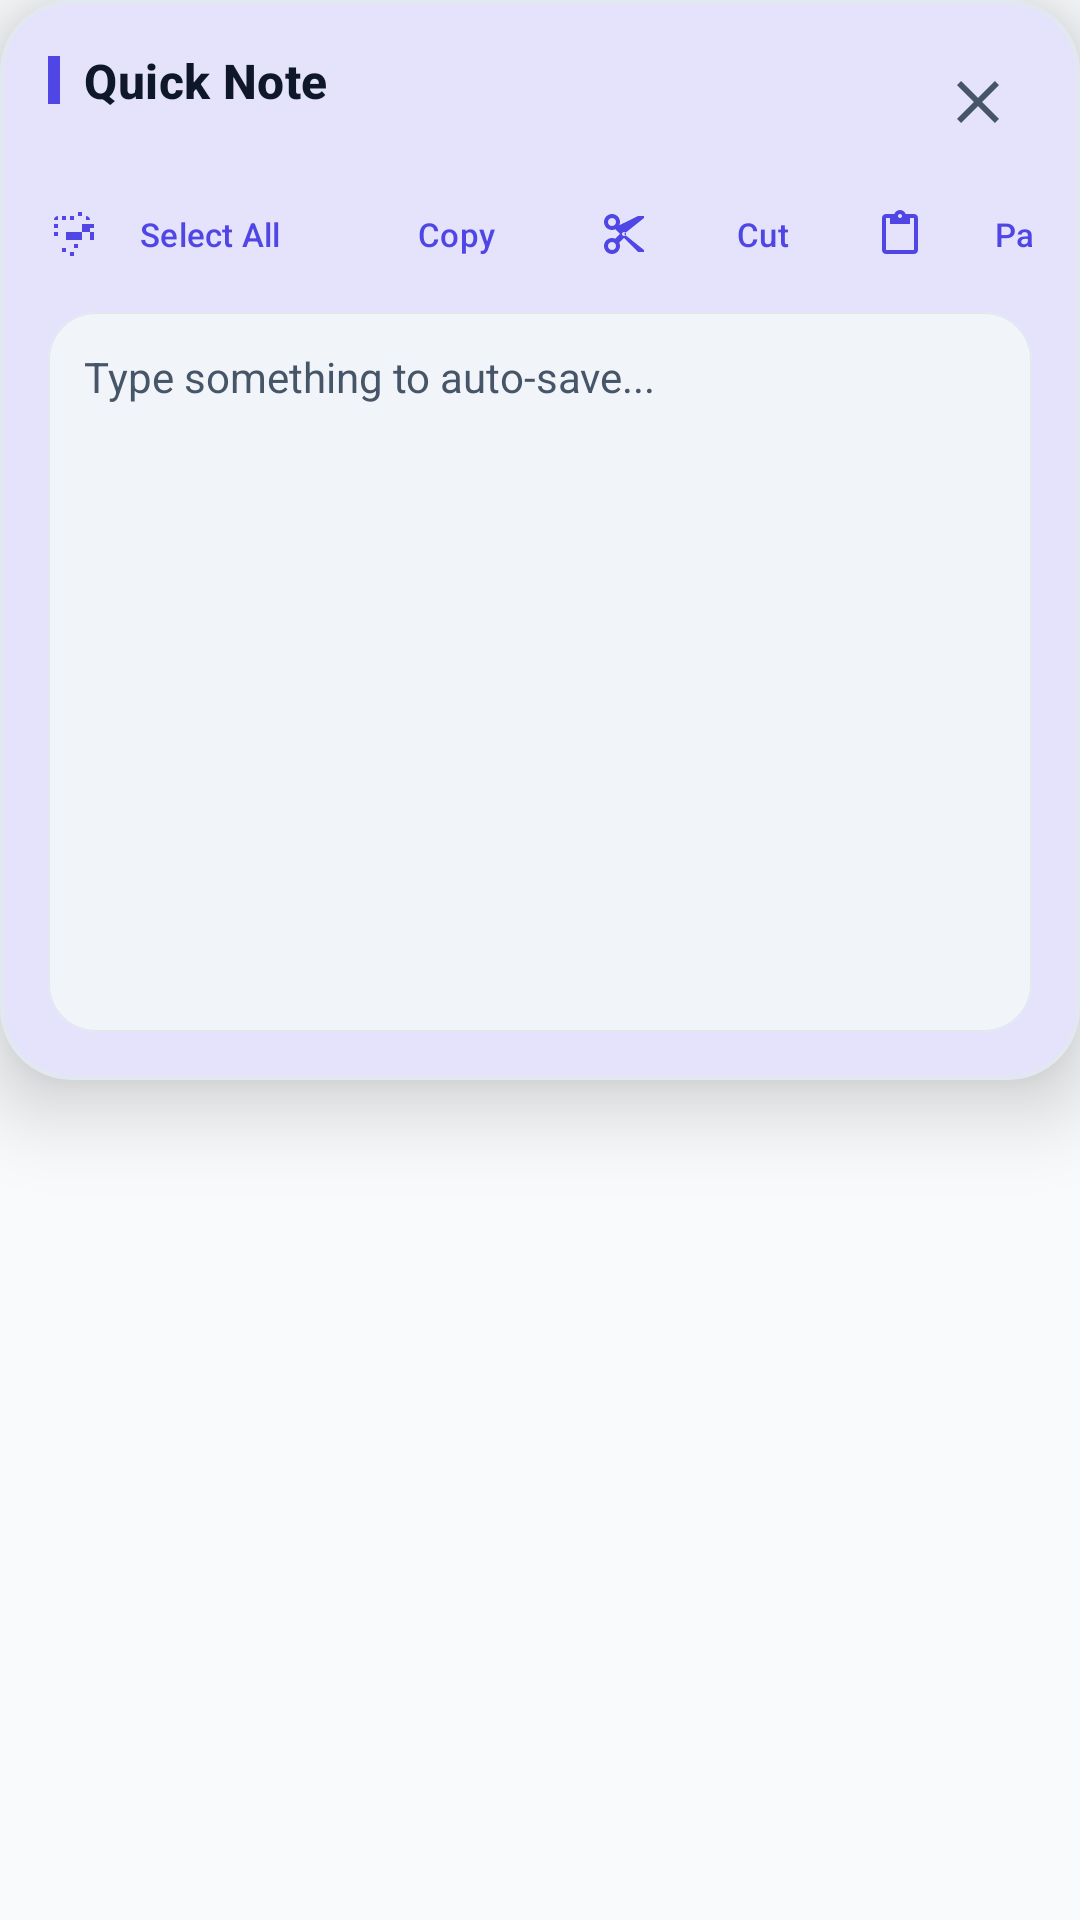

Icon click points for this 1080×1920 phone screenshot, format (x,y):
Close Note: (978,102)
